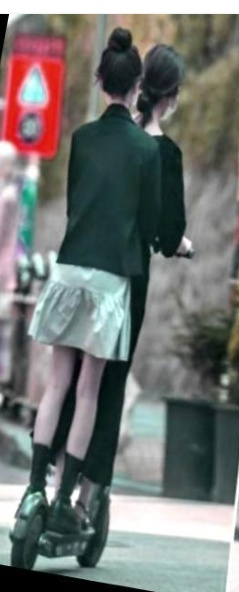bare_head: (84, 21, 140, 111), (133, 42, 189, 125)
human: (9, 23, 146, 532), (51, 43, 190, 527)
kickboard: (6, 487, 122, 573)
